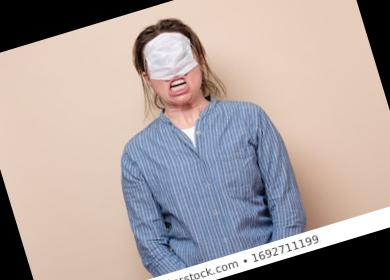mask_weared_incorrect: (142, 34, 206, 108)
